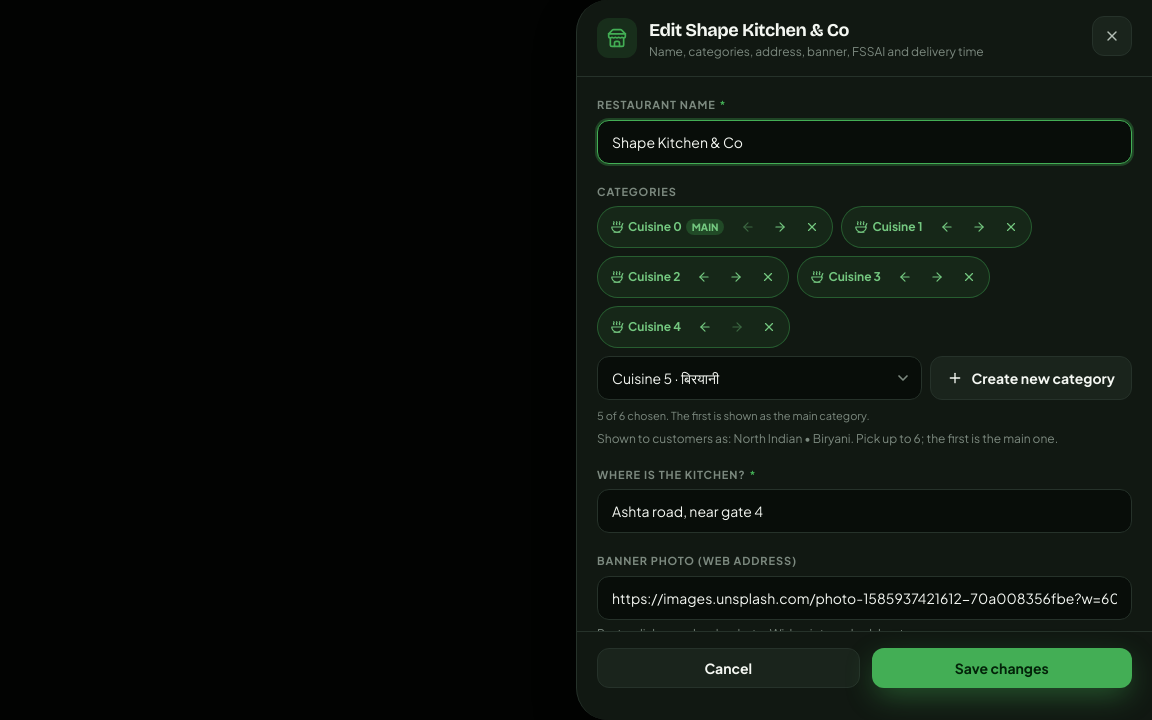
Test case: EditRestaurantDrawer › the 6 category limit is enforced in the picker
The image size is (1152, 720).
Select "Cuisine 5 · बिरयानी" in the dropdown with id "er-cuisines-add". click: (760, 378)
box: [597,356,922,400]
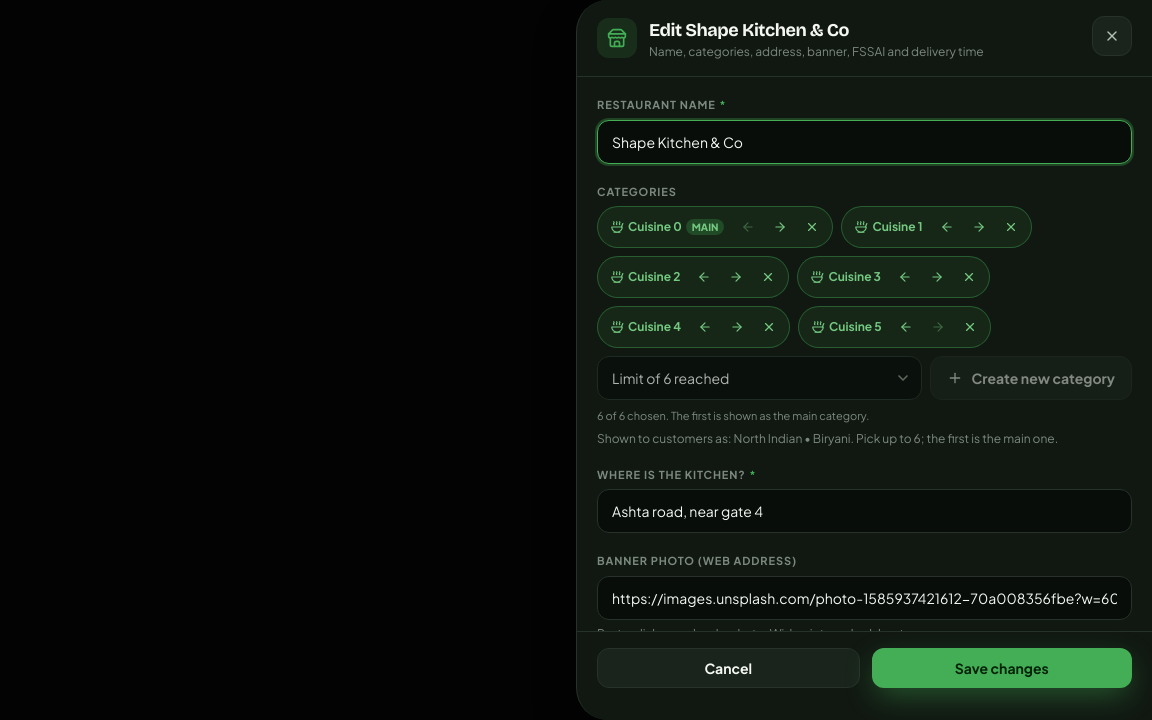
Expected: the dropdown with id "er-cuisines-add" is disabled, [597,356,922,400]
Expected: the text "6 of 6 chosen" is shown, [597,409,870,422]
